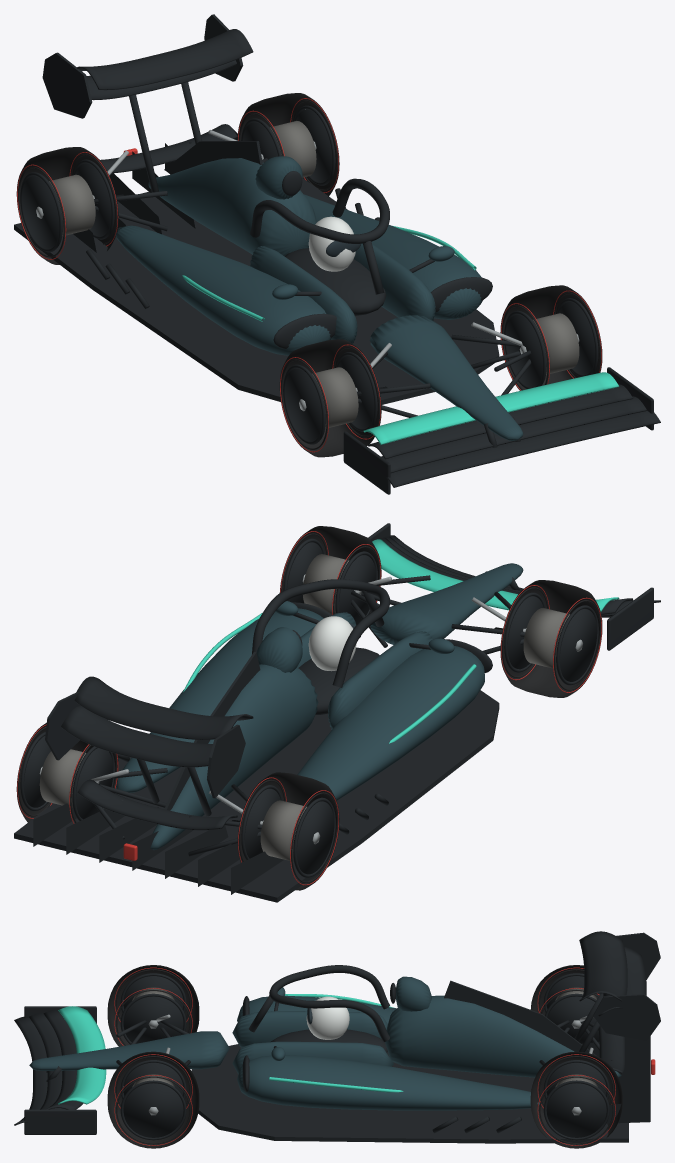
The model's file is car-medium.glb.
The picture shows the model from 3 angles, top to bottom: view 1: azimuth 30°, elevation 25°; view 2: azimuth 150°, elevation 25°; view 3: azimuth 270°, elevation 25°; orthographic projection. The views are drawn at different scales.
Visible parts, largest first — view 1: TD_V4_OpenWheel_Carbon.001, TD_V4_OpenWheel_Paint.001, TD_V4_OpenWheel_Accent.001, Wheel_F-1_Carbon.001, Wheel_R-1_Carbon.001, Wheel_F1_Carbon.001, Wheel_F-1_Tyre.001, Wheel_R-1_Tyre.001, Wheel_F1_Tyre.001, Wheel_R1_Carbon.001, Wheel_R1_Tyre.001, Wheel_F-1_BrakeDisc.001 (+5 smaller); view 2: TD_V4_OpenWheel_Carbon.001, TD_V4_OpenWheel_Paint.001, Wheel_F-1_Carbon.001, Wheel_R-1_Carbon.001, Wheel_F-1_Tyre.001, TD_V4_OpenWheel_Accent.001, Wheel_R1_Carbon.001, Wheel_F1_Carbon.001, Wheel_R-1_Tyre.001, Wheel_F1_Tyre.001, Wheel_F-1_BrakeDisc.001, Wheel_R-1_BrakeDisc.001 (+5 smaller); view 3: TD_V4_OpenWheel_Carbon.001, TD_V4_OpenWheel_Paint.001, Wheel_R1_Carbon.001, Wheel_F1_Carbon.001, Wheel_F-1_Carbon.001, TD_V4_OpenWheel_Accent.001, Wheel_F1_Tyre.001, Wheel_R1_Tyre.001, Wheel_F-1_Tyre.001, Wheel_R-1_Carbon.001, TD_V4_OpenWheel_Helmet.001, Wheel_R-1_Tyre.001 (+3 smaller).
Boxes of the visible parts, left/top/right/bottom form: TD_V4_OpenWheel_Carbon.001: left=14, top=14, right=660, bottom=494; TD_V4_OpenWheel_Paint.001: left=115, top=156, right=523, bottom=440; TD_V4_OpenWheel_Accent.001: left=182, top=225, right=619, bottom=444; Wheel_F-1_Carbon.001: left=283, top=352, right=377, bottom=444; Wheel_R-1_Carbon.001: left=20, top=159, right=114, bottom=252; Wheel_F1_Carbon.001: left=504, top=298, right=598, bottom=388; Wheel_F-1_Tyre.001: left=279, top=339, right=381, bottom=457; Wheel_R-1_Tyre.001: left=16, top=147, right=118, bottom=264; Wheel_F1_Tyre.001: left=500, top=285, right=602, bottom=390; Wheel_R1_Carbon.001: left=241, top=105, right=335, bottom=185; Wheel_R1_Tyre.001: left=237, top=93, right=339, bottom=197; Wheel_F-1_BrakeDisc.001: left=312, top=367, right=358, bottom=428; TD_V4_OpenWheel_Carbon.001: left=14, top=523, right=660, bottom=902; TD_V4_OpenWheel_Paint.001: left=116, top=563, right=523, bottom=849; Wheel_F-1_Carbon.001: left=504, top=592, right=598, bottom=685; Wheel_R-1_Carbon.001: left=241, top=785, right=335, bottom=877; Wheel_F-1_Tyre.001: left=500, top=580, right=602, bottom=697; TD_V4_OpenWheel_Accent.001: left=183, top=539, right=619, bottom=743; Wheel_R1_Carbon.001: left=20, top=732, right=115, bottom=820; Wheel_F1_Carbon.001: left=283, top=538, right=377, bottom=624; Wheel_R-1_Tyre.001: left=237, top=772, right=339, bottom=890; Wheel_F1_Tyre.001: left=279, top=526, right=381, bottom=614; Wheel_F-1_BrakeDisc.001: left=523, top=608, right=569, bottom=669; Wheel_R-1_BrakeDisc.001: left=260, top=800, right=306, bottom=861; TD_V4_OpenWheel_Carbon.001: left=14, top=931, right=660, bottom=1143; TD_V4_OpenWheel_Paint.001: left=29, top=976, right=621, bottom=1110; Wheel_R1_Carbon.001: left=543, top=1060, right=609, bottom=1140; Wheel_F1_Carbon.001: left=120, top=1060, right=186, bottom=1140; Wheel_F-1_Carbon.001: left=120, top=973, right=186, bottom=1044; TD_V4_OpenWheel_Accent.001: left=58, top=994, right=403, bottom=1104; Wheel_F1_Tyre.001: left=107, top=1051, right=199, bottom=1148; Wheel_R1_Tyre.001: left=530, top=1051, right=622, bottom=1148; Wheel_F-1_Tyre.001: left=107, top=965, right=199, bottom=1046; Wheel_R-1_Carbon.001: left=543, top=973, right=600, bottom=1043; TD_V4_OpenWheel_Helmet.001: left=306, top=996, right=349, bottom=1039; Wheel_R-1_Tyre.001: left=530, top=965, right=598, bottom=1015.
Bounding box in the file's own units: 2.03 × 1.18 × 5.08.
